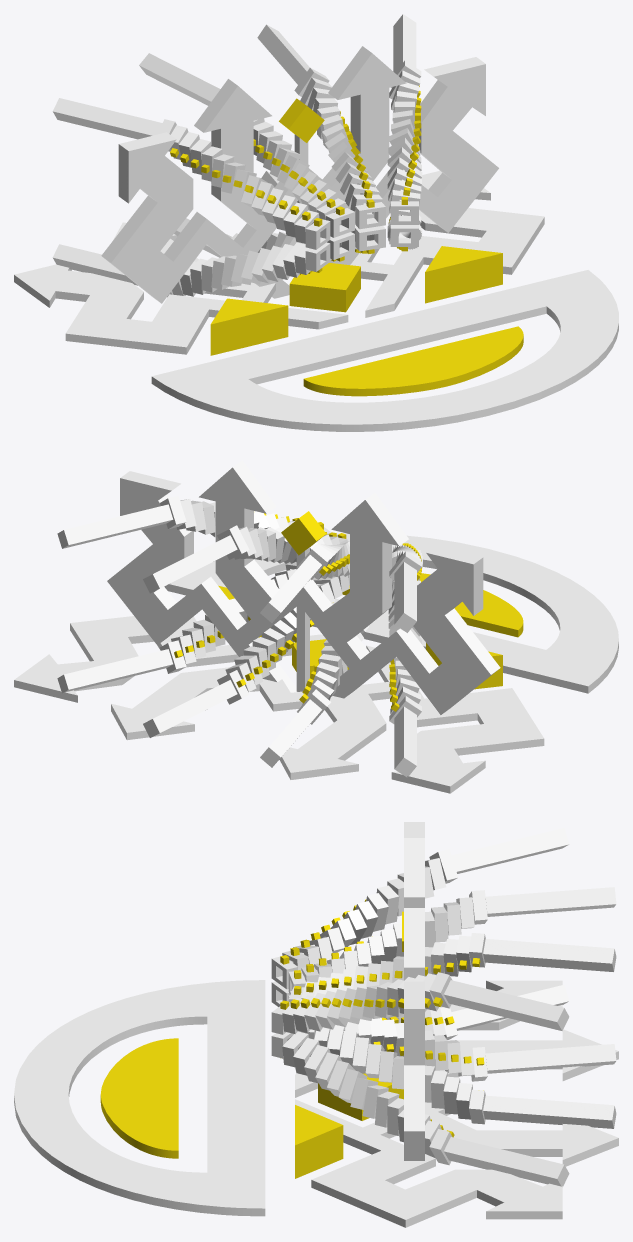
File: EB_main_scene_old.glb
3 views of the same model, one above another, from view 1: azimuth 30°, elevation 25°; view 2: azimuth 150°, elevation 25°; view 3: azimuth 270°, elevation 25° (orthographic). The views are drawn at different scales.
Parts seen in each view (by area): view 1: arrows_building, mouth_outter, arrows, mouth_inner, eye_left, eye_right, diamond, right_white_gene (×4), left_white_gene (×4), left_bridge_outside.4, left_bridge_outside.5, left_bridge_outside.6 (+3 smaller); view 2: arrows_building, arrows, mouth_outter, right_bridge_outside.5, right_bridge_outside.7, mouth_inner, right_bridge_outside.4, right_bridge_outside.6, left_bridge_outside.4, left_bridge_outside.6, left_bridge_outside.5, left_bridge_outside.7 (+5 smaller); view 3: mouth_outter, arrows, mouth_inner, arrows_building, right_bridge_outside.4, right_bridge_outside.6, right_bridge_outside.5, right_bridge_outside.7, left_bridge_outside.5, left_bridge_outside.7, eye_right, left_bridge_outside.4 (+2 smaller).
Boxes of the visible parts, bbox=[...] form: arrows_building: bbox=[101, 46, 498, 303]; mouth_outter: bbox=[151, 270, 618, 431]; arrows: bbox=[14, 171, 544, 354]; mouth_inner: bbox=[303, 326, 523, 396]; eye_left: bbox=[210, 298, 288, 355]; eye_right: bbox=[425, 246, 502, 303]; diamond: bbox=[289, 263, 360, 312]; right_white_gene (×4): bbox=[355, 201, 418, 251]; left_white_gene (×4): bbox=[305, 208, 354, 271]; left_bridge_outside.4: bbox=[52, 98, 162, 139]; left_bridge_outside.5: bbox=[139, 53, 220, 105]; left_bridge_outside.6: bbox=[52, 244, 137, 285]; arrows_building: bbox=[107, 460, 500, 714]; arrows: bbox=[14, 616, 544, 793]; mouth_outter: bbox=[164, 533, 618, 693]; right_bridge_outside.5: bbox=[57, 504, 173, 548]; right_bridge_outside.7: bbox=[57, 649, 172, 693]; mouth_inner: bbox=[342, 573, 523, 637]; right_bridge_outside.4: bbox=[143, 535, 237, 593]; right_bridge_outside.6: bbox=[143, 680, 237, 737]; left_bridge_outside.4: bbox=[394, 562, 416, 632]; left_bridge_outside.6: bbox=[394, 706, 416, 777]; left_bridge_outside.5: bbox=[260, 555, 321, 622]; left_bridge_outside.7: bbox=[260, 699, 321, 767]; mouth_outter: bbox=[14, 980, 265, 1216]; arrows: bbox=[295, 980, 618, 1227]; mouth_inner: bbox=[100, 1038, 178, 1158]; arrows_building: bbox=[404, 822, 424, 1160]; right_bridge_outside.4: bbox=[483, 939, 616, 971]; right_bridge_outside.6: bbox=[483, 1095, 616, 1128]; right_bridge_outside.5: bbox=[444, 980, 569, 1030]; right_bridge_outside.7: bbox=[444, 1137, 569, 1186]; left_bridge_outside.5: bbox=[485, 887, 616, 916]; left_bridge_outside.7: bbox=[485, 1044, 616, 1073]; eye_right: bbox=[295, 1105, 343, 1178]; left_bridge_outside.4: bbox=[451, 828, 569, 873].
Bounding box in the file's own units: 13.59 × 6.01 × 13.85.
